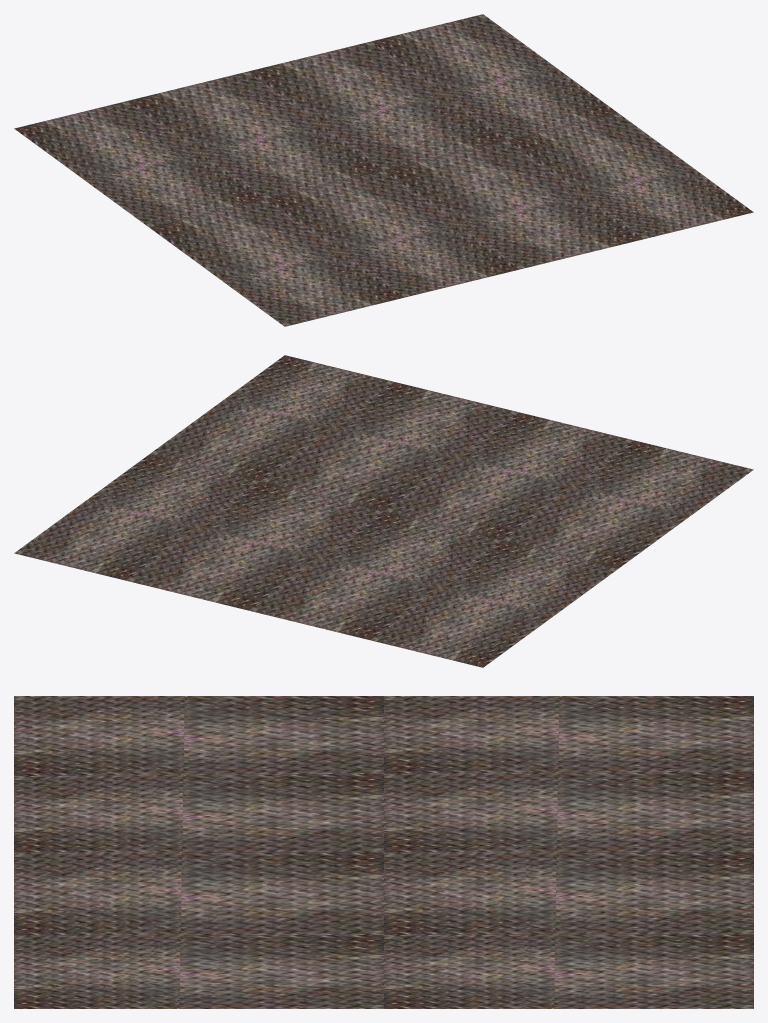
3 renders of one model, top to bottom at view 1: azimuth 30°, elevation 25°; view 2: azimuth 150°, elevation 25°; view 3: azimuth 270°, elevation 25°, orthographic. The views are drawn at different scales.
Visible parts, largest first — view 1: Object01; view 2: Object01; view 3: Object01.
Boxes of the visible parts, <box> form: Object01: <box>14,14,753,326</box>; Object01: <box>14,355,753,667</box>; Object01: <box>14,696,753,1008</box>.
Size of the model in its own units: 1036 by 0 by 1036.
